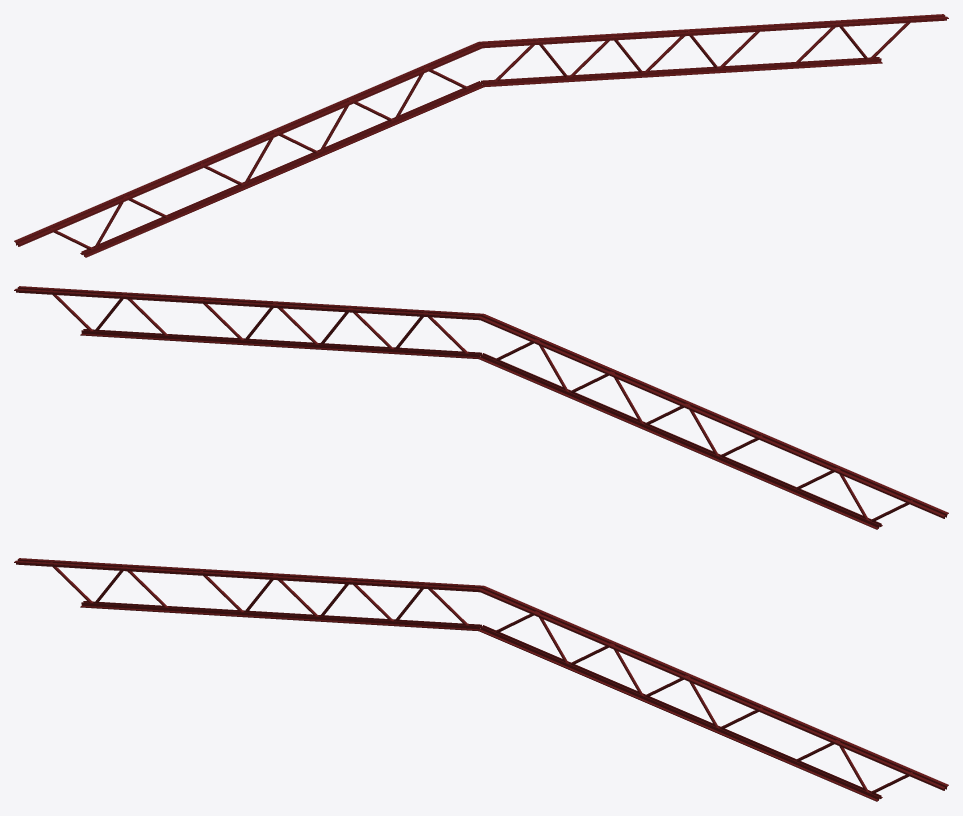
File: tech1.FBX
3 renders of one model, top to bottom at view 1: azimuth 30°, elevation 25°; view 2: azimuth 150°, elevation 25°; view 3: azimuth 330°, elevation 25°, orthographic.
Parts seen in each view (by area): view 1: 16 foot long round bar and angle iron truss_005, 16 foot long round bar and angle iron truss_002; view 2: 16 foot long round bar and angle iron truss_005, 16 foot long round bar and angle iron truss_002; view 3: 16 foot long round bar and angle iron truss_002, 16 foot long round bar and angle iron truss_005.
Boxes of the visible parts, x1=… form: 16 foot long round bar and angle iron truss_005: x1=14, y1=42, x2=484, y2=257; 16 foot long round bar and angle iron truss_002: x1=479, y1=14, x2=948, y2=87; 16 foot long round bar and angle iron truss_005: x1=478, y1=314, x2=948, y2=529; 16 foot long round bar and angle iron truss_002: x1=14, y1=286, x2=483, y2=358; 16 foot long round bar and angle iron truss_002: x1=478, y1=586, x2=948, y2=801; 16 foot long round bar and angle iron truss_005: x1=14, y1=558, x2=483, y2=631.
Size of the model in its own units: 340 by 40.15 by 3.53.
